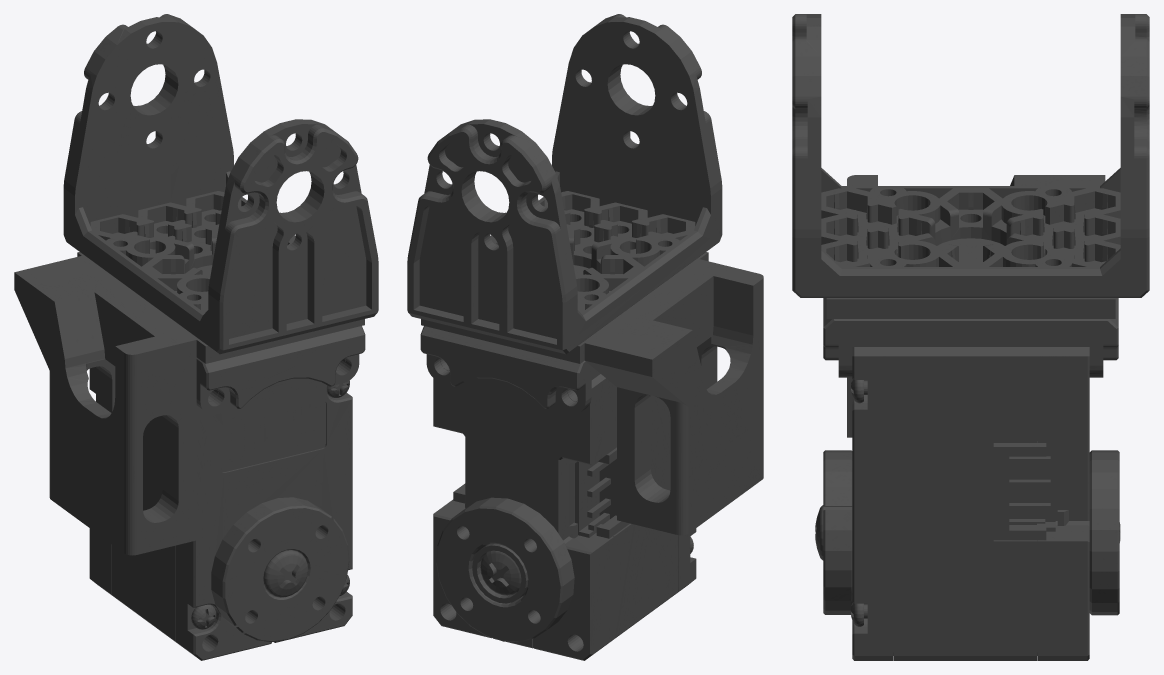
Rendered from thumb_dip.dae.
The picture shows the model from 3 angles, left to right: view 1: azimuth 30°, elevation 25°; view 2: azimuth 150°, elevation 25°; view 3: azimuth 270°, elevation 25°; orthographic projection. The views are drawn at different scales.
Parts seen in each view (by area): view 1: node; view 2: node; view 3: node.
Part boxes in pixels (left/top/right/bottom): node: left=14, top=14, right=378, bottom=660; node: left=407, top=14, right=763, bottom=660; node: left=792, top=14, right=1149, bottom=660.
Bounding box in the file's own units: 0.0285 × 0.064 × 0.0346.
Materials: 1 (1 with a texture image).
